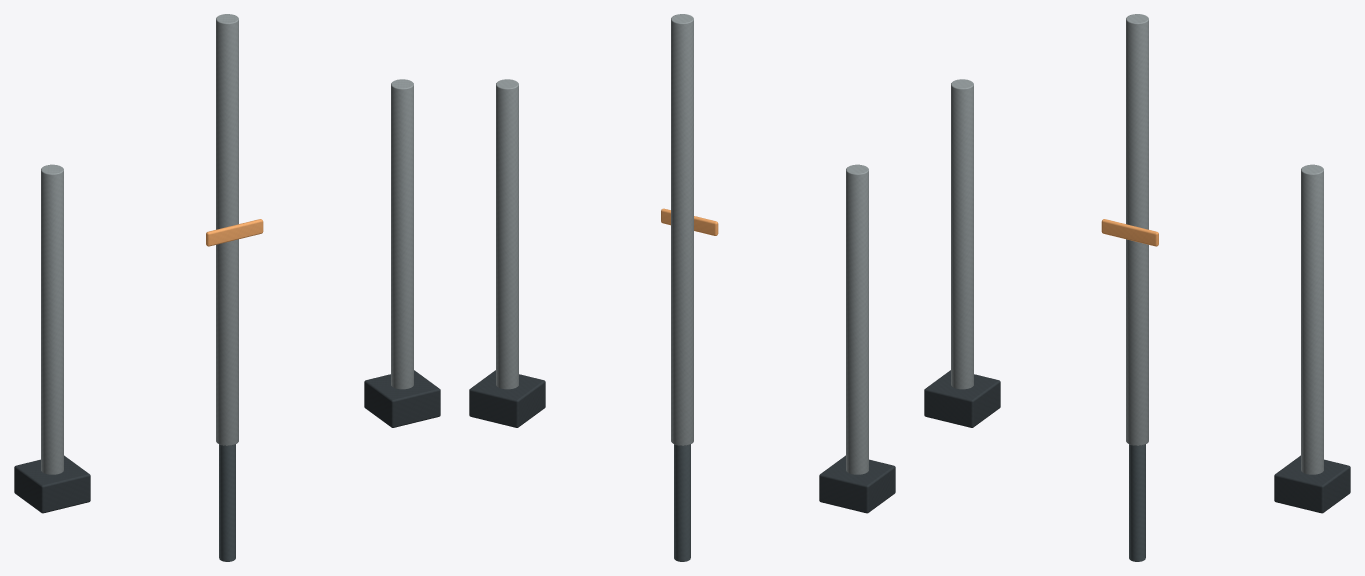
Rendered from HandRailSection.glb.
The picture shows the model from 3 angles, left to right: view 1: azimuth 30°, elevation 25°; view 2: azimuth 150°, elevation 25°; view 3: azimuth 330°, elevation 25°; orthographic projection.
Parts seen in each view (by area): view 1: HandRailSection_Mesh; view 2: HandRailSection_Mesh; view 3: HandRailSection_Mesh.
Part boxes in pixels (bbox=[...]): HandRailSection_Mesh: bbox=[14, 14, 440, 561]; HandRailSection_Mesh: bbox=[469, 14, 895, 561]; HandRailSection_Mesh: bbox=[924, 14, 1350, 561].
Size of the model in its own units: 1.78 by 2.3 by 0.22.
4 materials, 4 textured.
